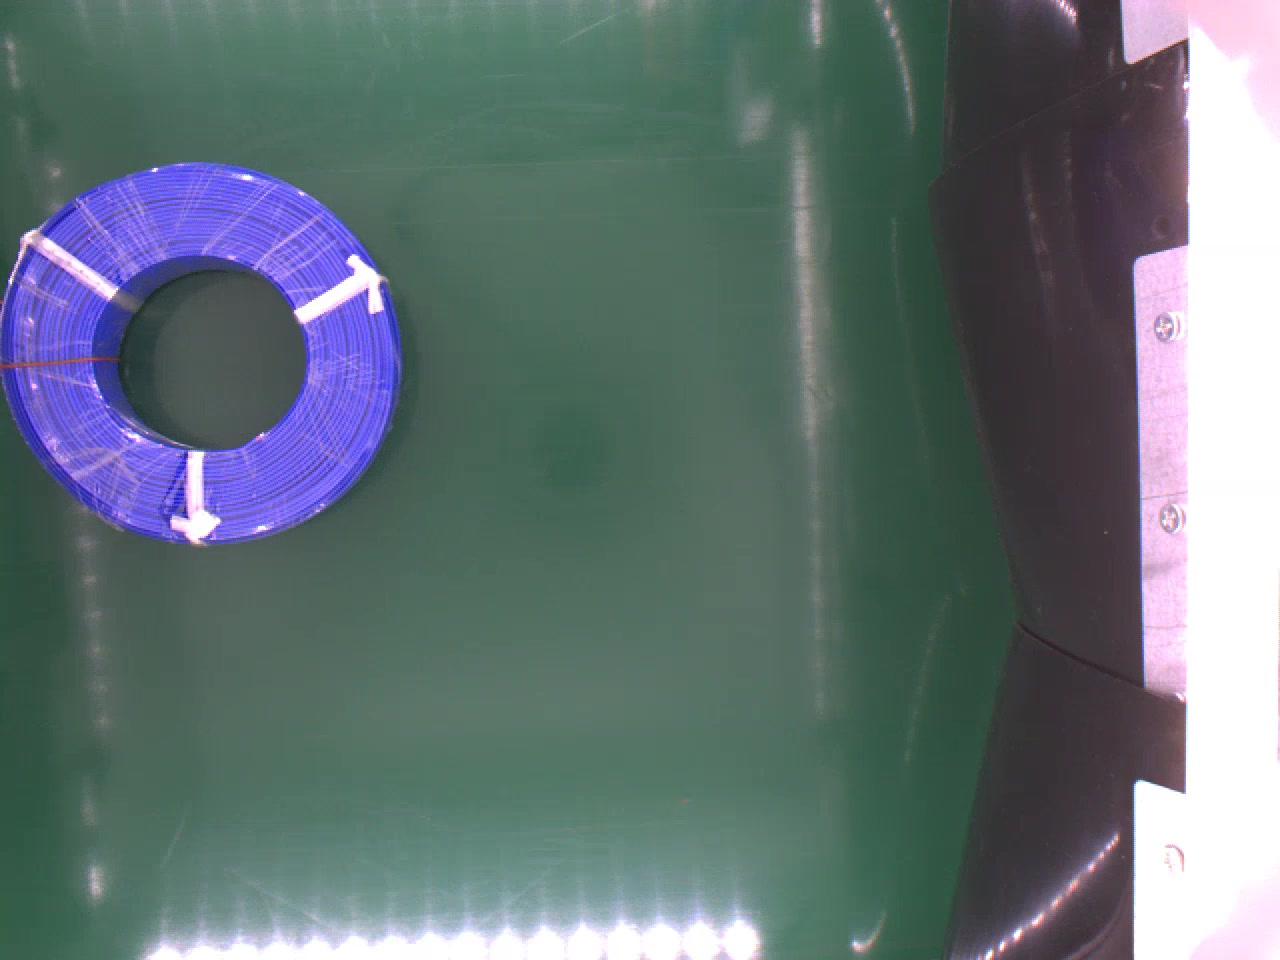blue: (4, 159, 400, 541)
